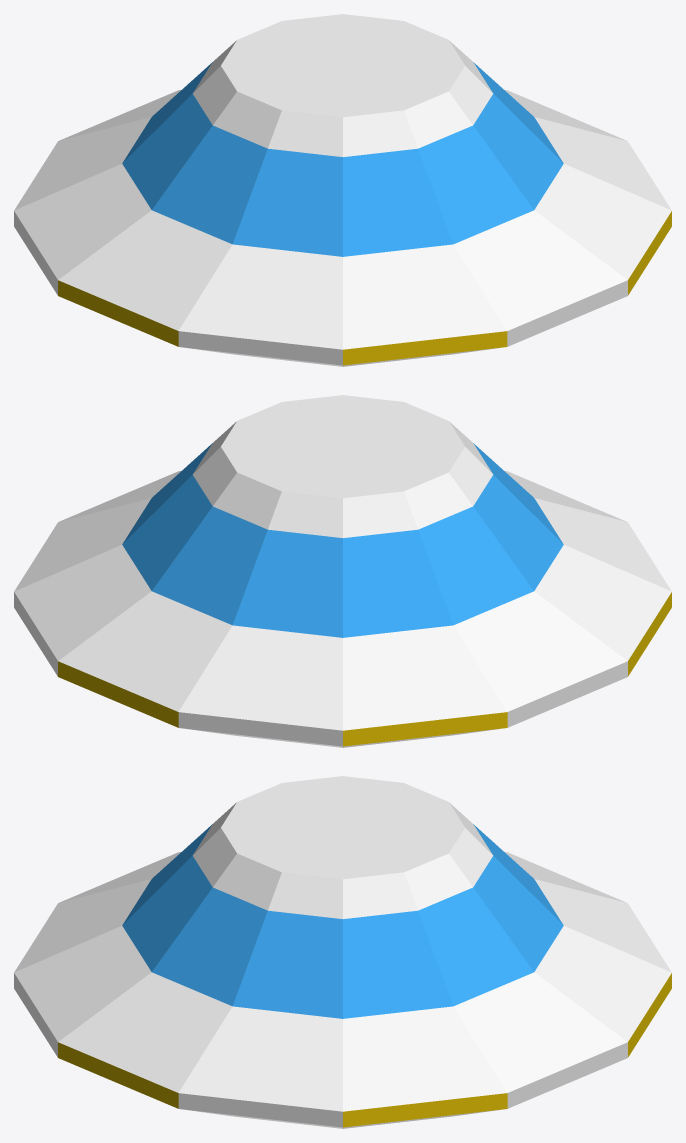
Rendered from Ufo.fbx.
3 renders of one model, top to bottom at view 1: azimuth 30°, elevation 25°; view 2: azimuth 150°, elevation 25°; view 3: azimuth 270°, elevation 25°, orthographic.
Parts seen in each view (by area): view 1: Cylinder; view 2: Cylinder; view 3: Cylinder.
Boxes of the visible parts, x1,y1,x2,y2 form: Cylinder: (14, 14, 671, 366); Cylinder: (14, 395, 671, 747); Cylinder: (14, 776, 671, 1128).
Size of the model in its own units: 2 by 0.8331 by 2.
